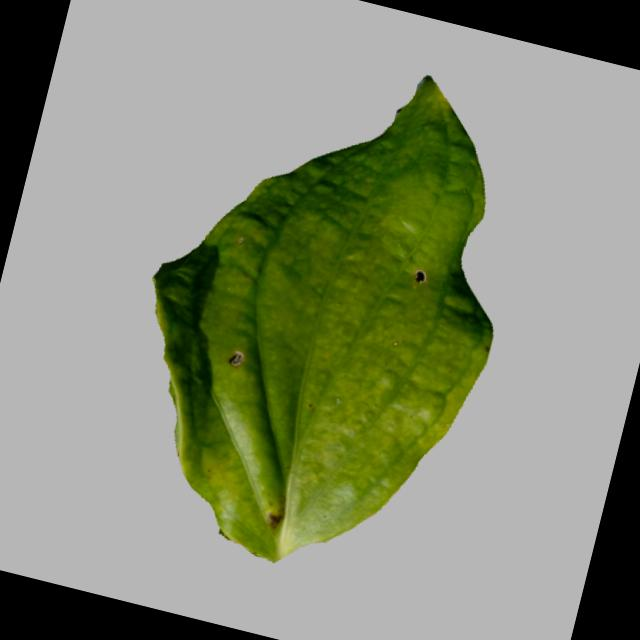yellow-mottle-virus: (65, 11, 568, 598)
